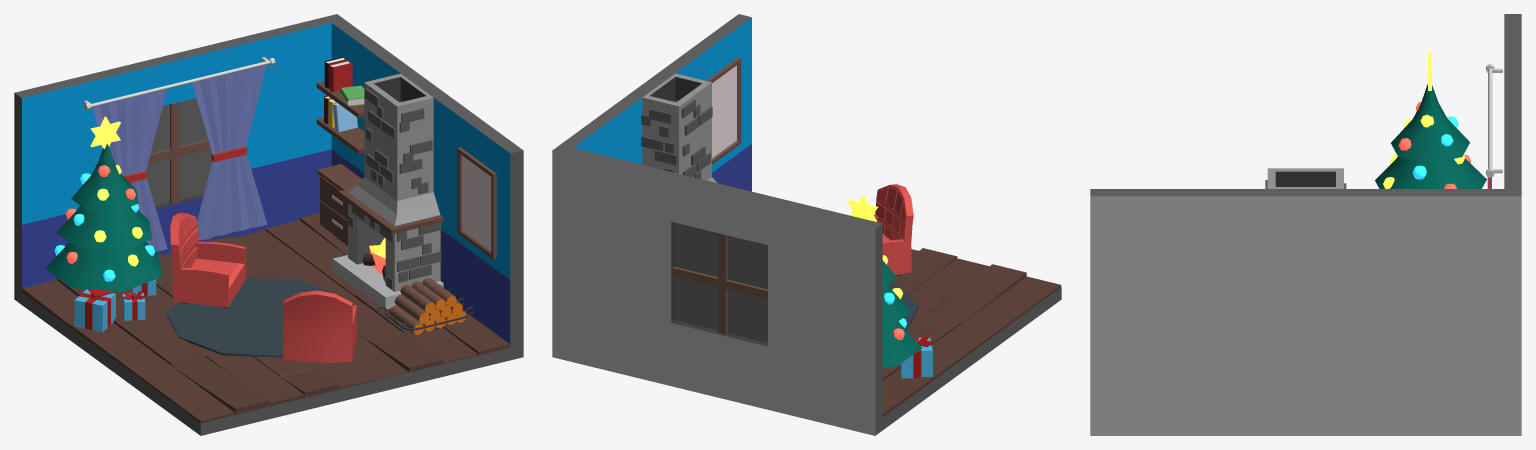
The model's file is christmas_eve.glb.
The picture shows the model from 3 angles, left to right: view 1: azimuth 30°, elevation 25°; view 2: azimuth 150°, elevation 25°; view 3: azimuth 270°, elevation 25°; orthographic projection. The views are drawn at different scales.
Parts seen in each view (by area): view 1: Room, Floor, Fireplace, Christmas_tree, Curtain2, Rug, Chair1, Chair2, Curtain1, Glass, Picture, Wood (+9 smaller); view 2: Room, Floor, Glass, Fireplace, Christmas_tree, Chair2, Picture, Window, Present1; view 3: Room, Christmas_tree, Fireplace, Curtain_rod_Material #246_0.
Part boxes in pixels (x1,y1,x2,y2): Room: (14,14,523,435); Floor: (22,213,510,422); Fireplace: (332,73,443,309); Christmas_tree: (45,116,162,298); Curtain2: (192,64,267,240); Rug: (166,277,343,357); Chair1: (170,212,245,308); Chair2: (283,290,356,362); Curtain1: (92,89,167,251); Glass: (146,98,212,205); Picture: (457,147,496,259); Wood: (389,278,466,334); Room: (552,14,1061,435); Floor: (882,248,1061,417); Glass: (674,222,767,342); Fireplace: (641,73,716,182); Christmas_tree: (848,195,922,367); Chair2: (874,184,913,276); Picture: (706,57,741,164); Window: (673,233,767,334); Present1: (899,334,932,378); Room: (1090,14,1521,435); Christmas_tree: (1375,52,1486,188); Fireplace: (1265,168,1346,188); Curtain_rod_Material #246_0: (1486,64,1502,177).
Bounding box in the file's own units: 400 × 245 × 400.
Materials: 2 (1 with a texture image).
